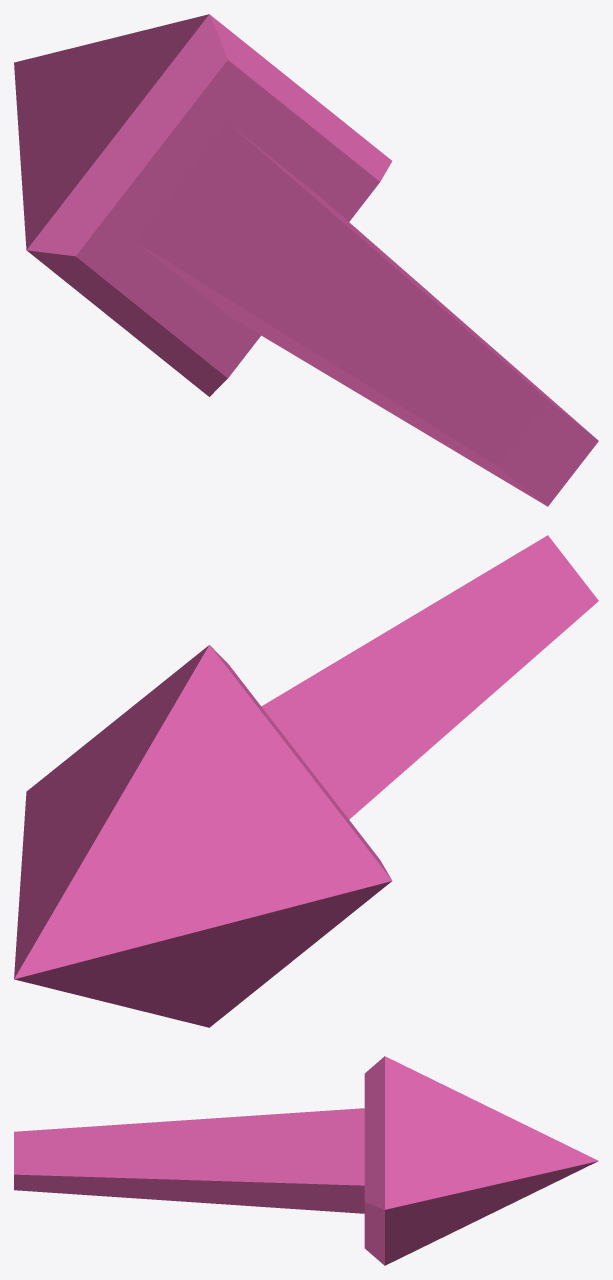
File: Arrow.glb
3 renders of one model, top to bottom at view 1: azimuth 30°, elevation 25°; view 2: azimuth 150°, elevation 25°; view 3: azimuth 270°, elevation 25°, orthographic. The views are drawn at different scales.
Parts seen in each view (by area): view 1: Cube; view 2: Cube; view 3: Cube.
Boxes of the visible parts, box(x1,y1,x2,y2) form: Cube: box(14, 14, 598, 506); Cube: box(14, 535, 598, 1027); Cube: box(14, 1056, 598, 1265).
Bounding box in the file's own units: 0.3958 × 0.3958 × 1.
